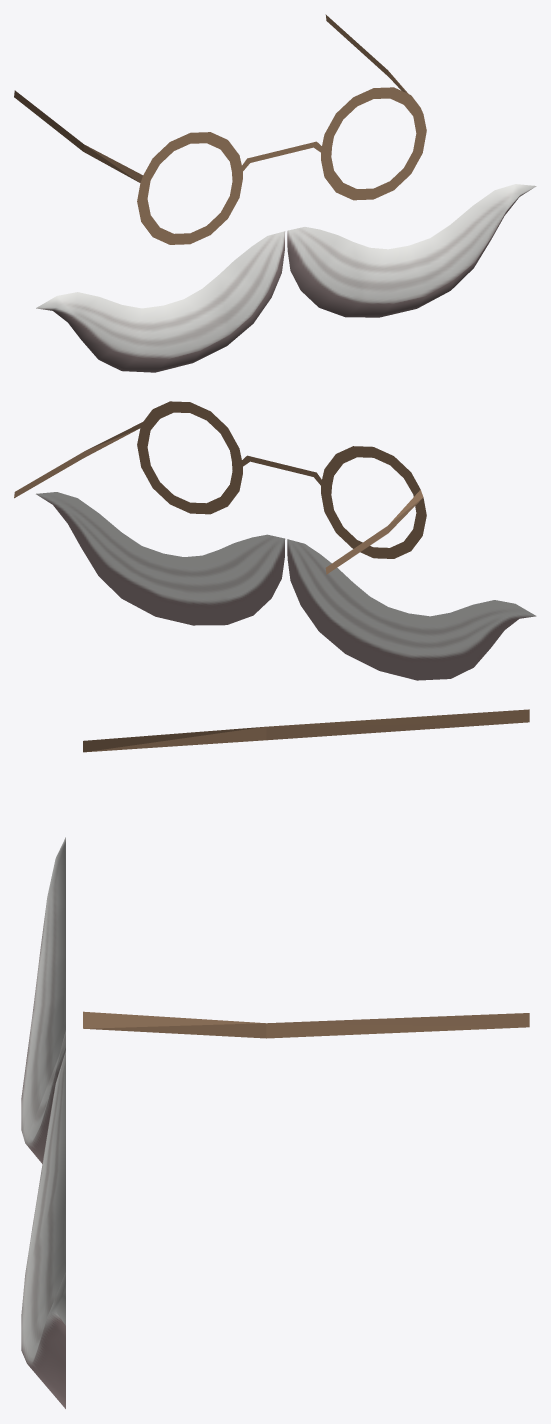
Rendered from top_acc_14.FBX.
3 views of the same model, one above another, from view 1: azimuth 30°, elevation 25°; view 2: azimuth 150°, elevation 25°; view 3: azimuth 270°, elevation 25° (orthographic). The views are drawn at different scales.
Visible parts, largest first — view 1: top_acc_14; view 2: top_acc_14; view 3: top_acc_14.
Boxes of the visible parts, x1,y1,x2,y2 form: top_acc_14: (14,14,536,372); top_acc_14: (14,401,536,680); top_acc_14: (21,709,529,1408).
Bounding box in the file's own units: 43.24 × 18.72 × 18.98.
